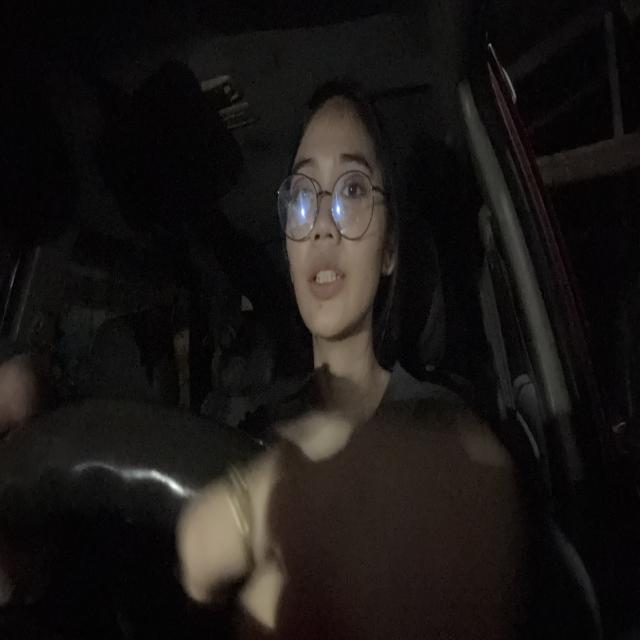open: (332, 151, 374, 209), (288, 150, 320, 210)
